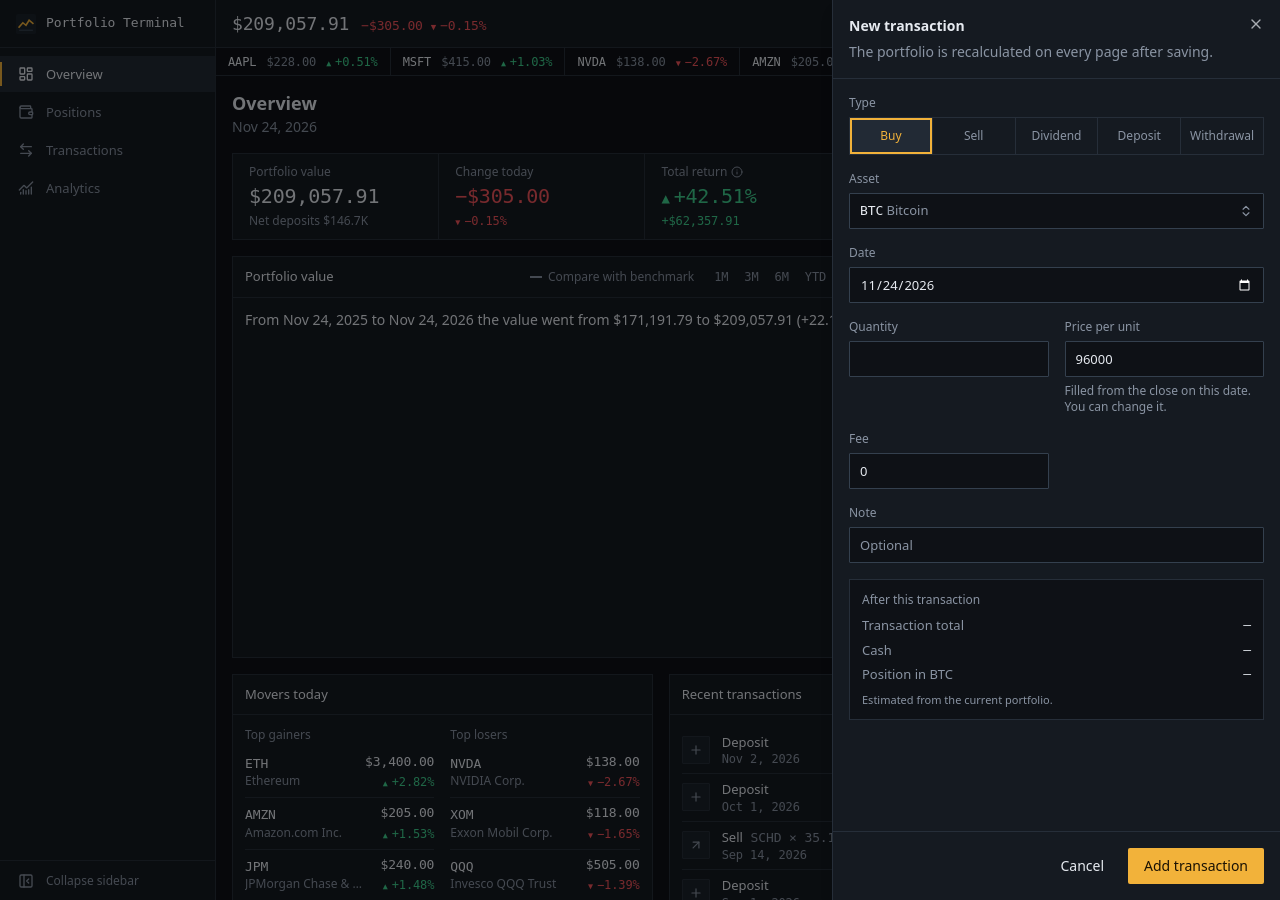
Test: TransactionForm › shows the server ledger error at the field
Expected: the button "Add transaction" is shown, [1128,848,1264,884]
In the field labelled "Quantity": (949, 359) [849,341,1048,377], type "100"
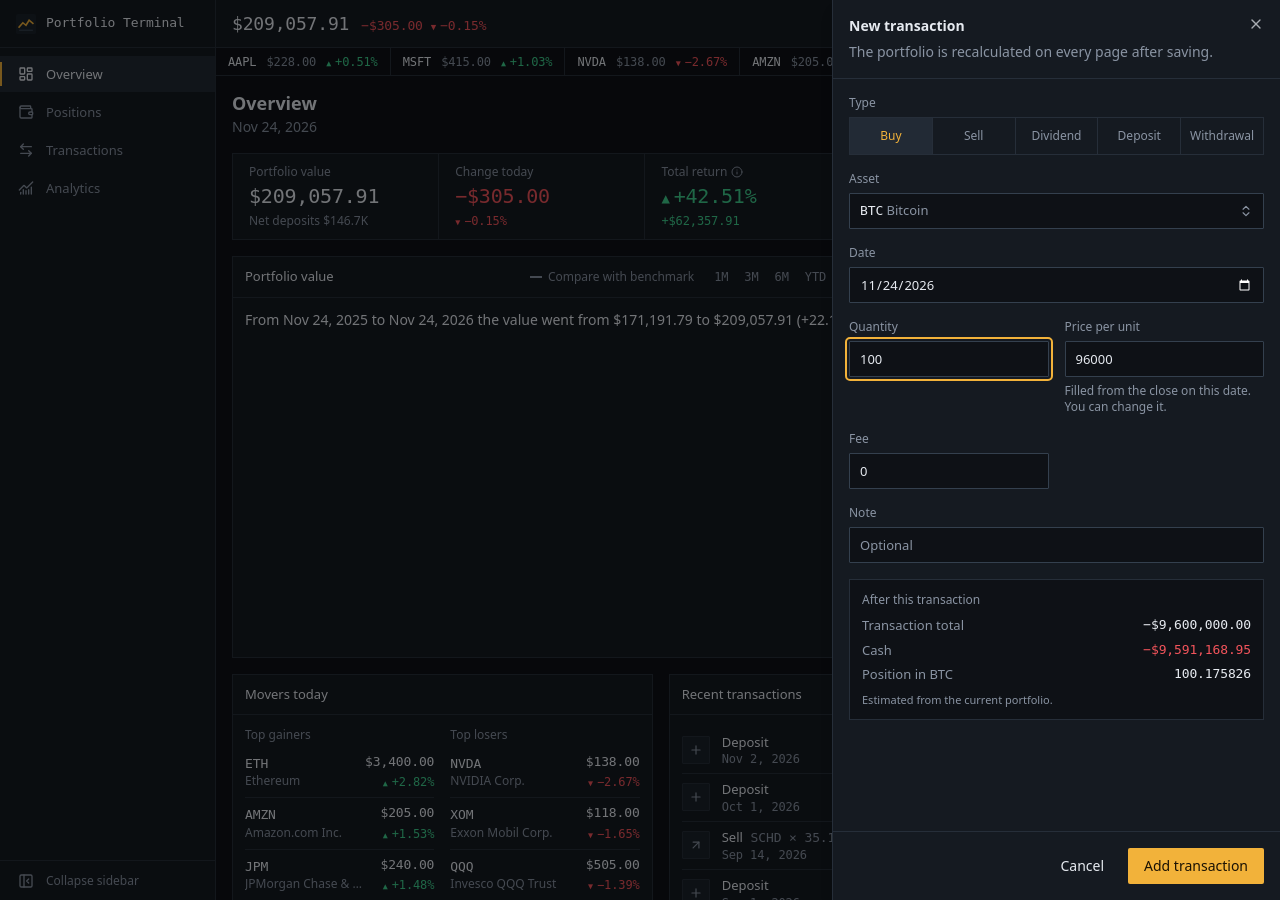
Click the button "Add transaction": (1196, 866) [1128,848,1264,884]
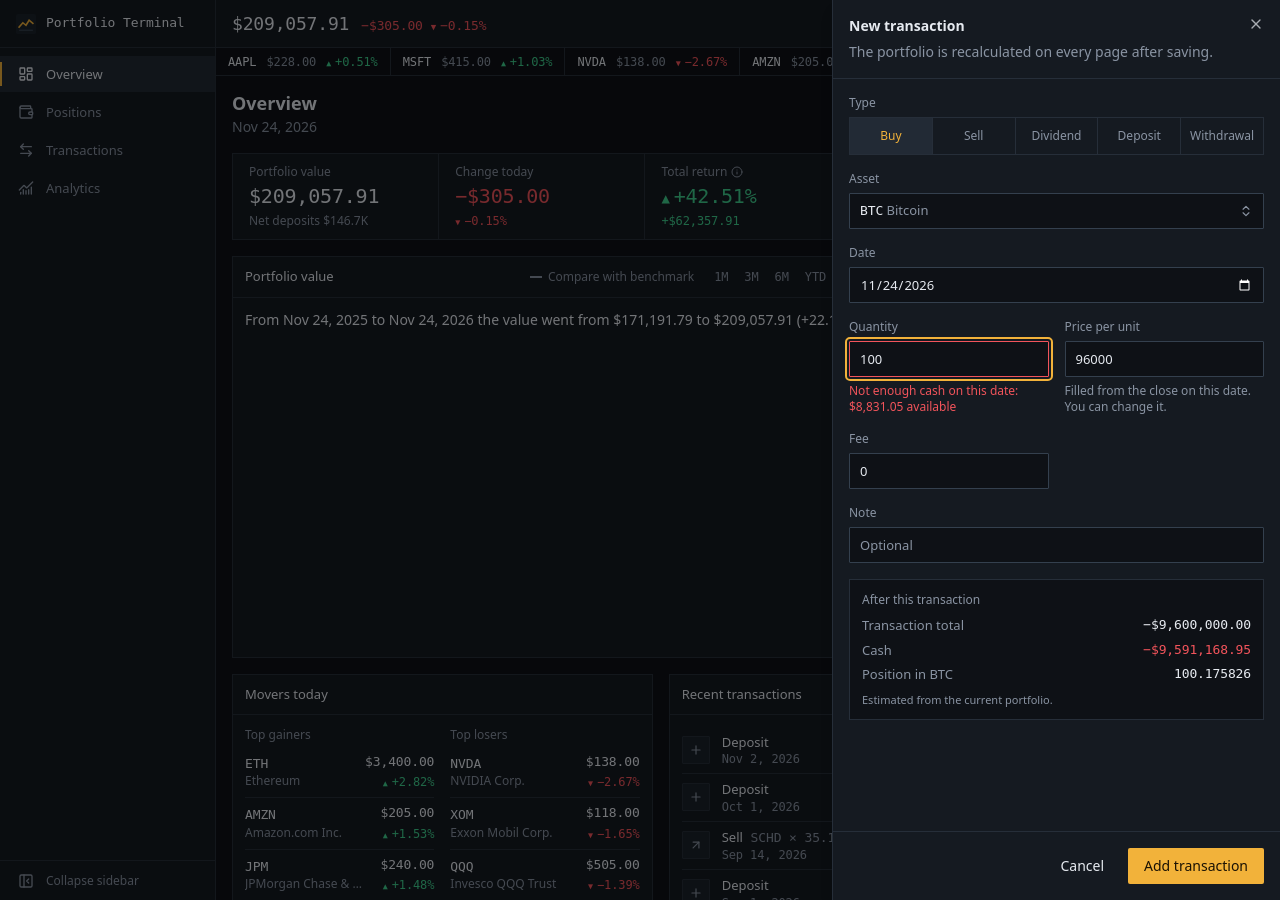
Expected: the dialog "New transaction" is shown, [832,0,1279,899]
Expected: the text "Not enough cash on this date: $8,831.05 available" is shown, [849,382,1018,415]
